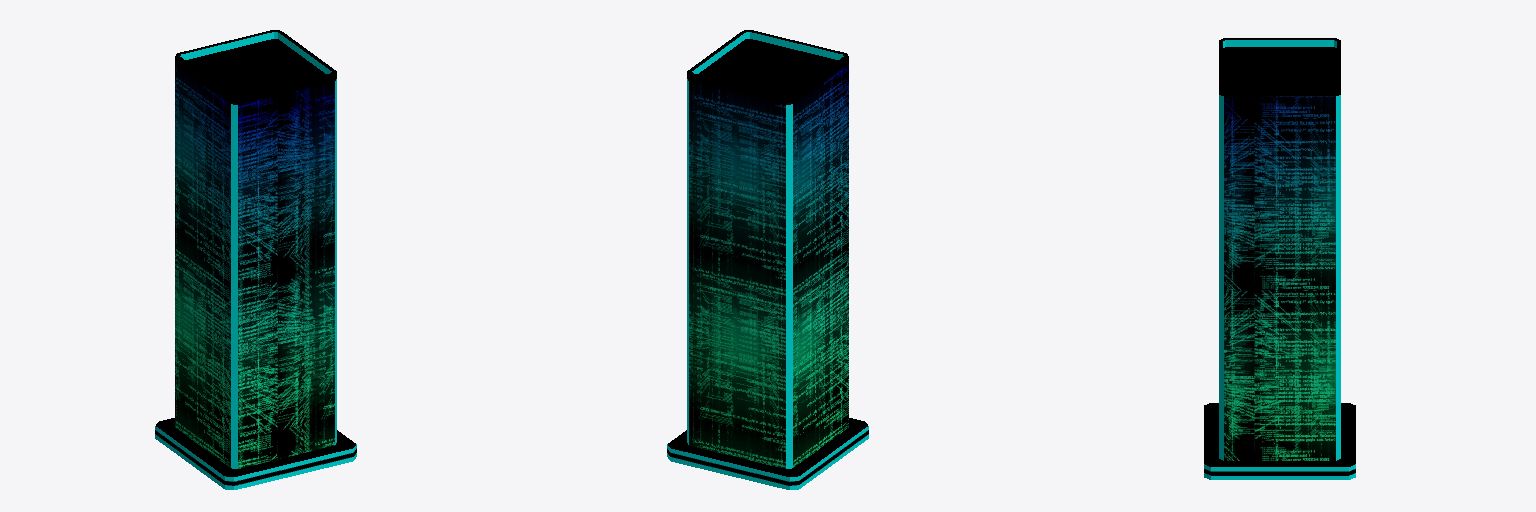
The picture shows the model from 3 angles: view 1: azimuth 30°, elevation 25°; view 2: azimuth 150°, elevation 25°; view 3: azimuth 270°, elevation 25°; orthographic projection.
Parts seen in each view (by area): view 1: Cube; view 2: Cube; view 3: Cube.
Part boxes in pixels (bbox=[...]): Cube: bbox=[155, 30, 356, 489]; Cube: bbox=[667, 30, 868, 489]; Cube: bbox=[1204, 38, 1355, 479].
Bounding box in the file's own units: 74.49 × 207 × 74.49.
Materials: 3 (1 with a texture image).